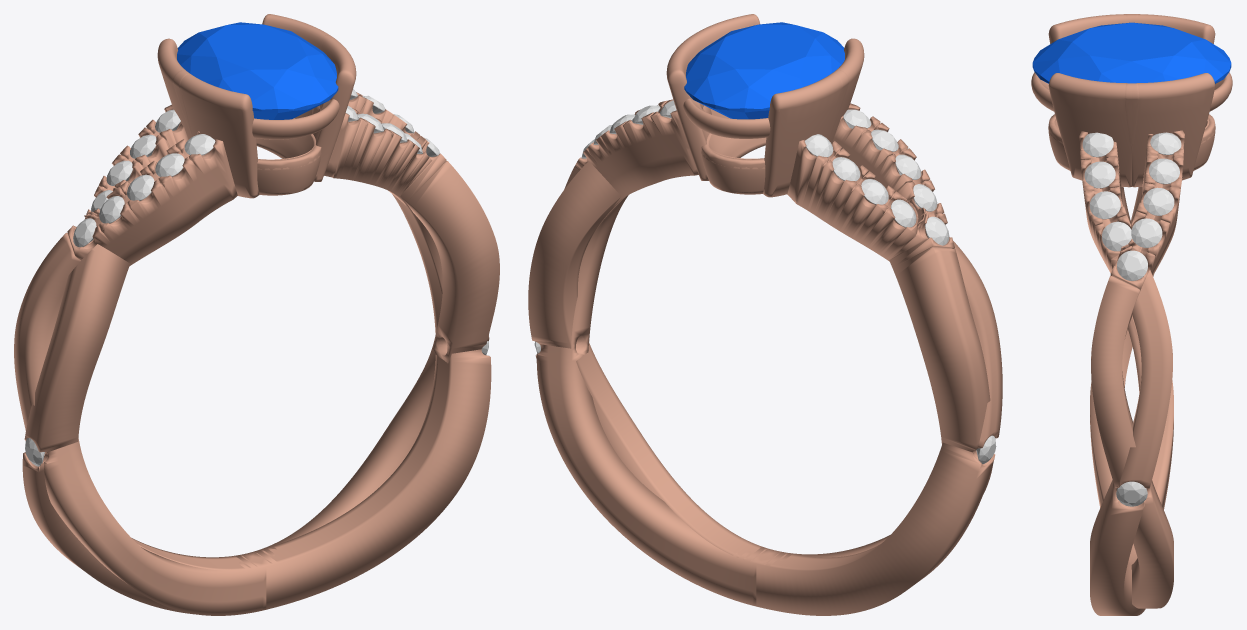
The model's file is bluesapphire-oval-rosegold-halfmoonbezel-twist-sidestones.glb.
3 renders of one model, left to right at view 1: azimuth 30°, elevation 25°; view 2: azimuth 150°, elevation 25°; view 3: azimuth 270°, elevation 25°, orthographic.
Visible parts, largest first — view 1: metal.003, stone; view 2: metal.003, stone; view 3: metal.003, stone, Twist shank diamonds.015, Twist shank diamonds.016, Twist shank diamonds.012, Twist shank diamonds.017, Twist shank diamonds.011, Twist shank diamonds.013, Twist shank diamonds.018, Twist shank diamonds.010, Twist shank diamonds.014, Twist shank diamonds.019.
Boxes of the visible parts, <box> form: metal.003: <box>14,14,499,615</box>; stone: <box>177,22,338,119</box>; metal.003: <box>528,14,1002,615</box>; stone: <box>684,22,844,119</box>; metal.003: <box>1031,14,1232,615</box>; stone: <box>1032,22,1231,83</box>; Twist shank diamonds.015: <box>1117,250,1147,280</box>; Twist shank diamonds.016: <box>1131,218,1162,247</box>; Twist shank diamonds.012: <box>1089,191,1120,219</box>; Twist shank diamonds.017: <box>1143,187,1174,215</box>; Twist shank diamonds.011: <box>1102,221,1132,251</box>; Twist shank diamonds.013: <box>1084,161,1115,188</box>; Twist shank diamonds.018: <box>1149,158,1179,184</box>; Twist shank diamonds.010: <box>1116,481,1147,506</box>; Twist shank diamonds.014: <box>1082,132,1113,157</box>; Twist shank diamonds.019: <box>1150,132,1181,154</box>.
Size of the model in its own units: 19.97 by 23.2 by 7.75.
